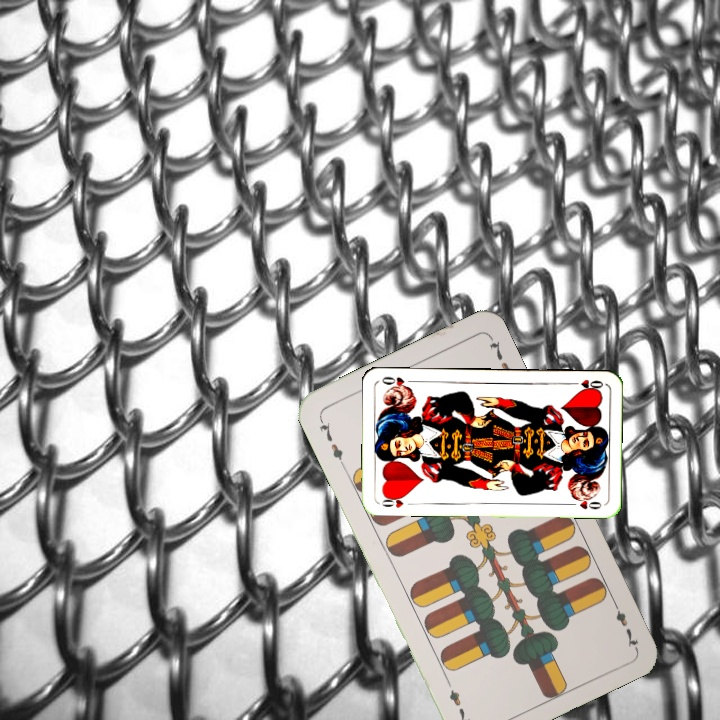E7: (608, 595, 641, 651), (315, 414, 347, 469)
HO: (566, 375, 606, 393), (376, 491, 409, 510)
